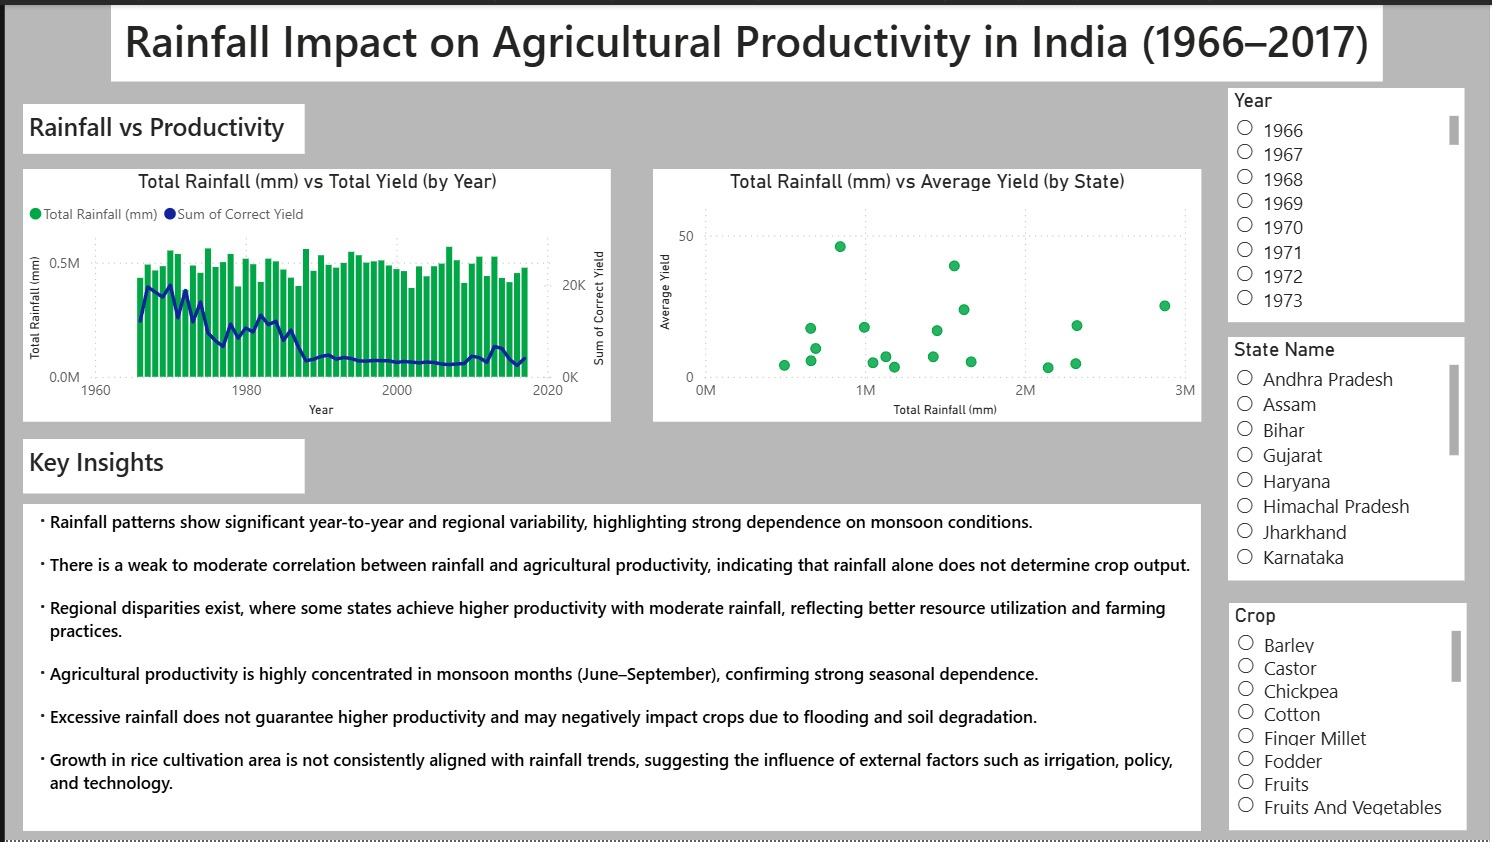

Layout of this report page (visuals, bound fields, positions):
{"tool":"powerbi","page":{"name":"Correlations and Key Insights","canvas":[1280,720],"ordinal":1},"visuals":[{"type":"textbox","box":[91.4,0,1097.1,66.1],"z":0},{"type":"textbox","box":[15.5,85.4,243.2,43.1],"z":1000},{"type":"listSlicer","fields":{"Values":["Dimension_Geography.State Name"]},"box":[1054.9,286.4,204.4,209.6],"z":2000},{"type":"listSlicer","fields":{"Values":["Fact_Agriculture.Year"]},"box":[1054.9,71.6,204.4,201.8],"z":3000},{"type":"listSlicer","fields":{"Values":["Fact_Agriculture.Crop"]},"box":[1055.3,515.5,205.2,196.5],"z":4000},{"type":"scatterChart","title":"Total Rainfall (mm) vs Average Yield (by State)","fields":{"Y":["Fact_Agriculture.Average Yield"],"Category":["Dimension_Geography.State Name"],"X":["Fact_Agriculture.Total Rainfall (mm)"]},"box":[558.9,141.5,472.7,218.2],"z":5000},{"type":"lineClusteredColumnComboChart","title":"Total Rainfall (mm) vs Total Yield (by Year)","fields":{"Category":["Fact_Agriculture.Year"],"Y":["Fact_Agriculture.Total Rainfall (mm)"],"Y2":["Sum(Fact_Agriculture.Correct Yield)"]},"box":[15.5,141.5,507.2,218.2],"z":6000},{"type":"textbox","box":[15.5,374.3,243.2,46.6],"z":7000},{"type":"textbox","box":[15.5,430.4,1016.1,282],"z":8000}]}

Visuals, with their boxes in screenshot pixels (x1, y1, x2, y2), scaled from the page's 1280x720 canvas onto the 1492x842 screenshot:
textbox: rect(107, 0, 1385, 77)
textbox: rect(18, 100, 302, 150)
listSlicer - Dimension_Geography.State Name: rect(1230, 335, 1468, 580)
listSlicer - Fact_Agriculture.Year: rect(1230, 84, 1468, 320)
listSlicer - Fact_Agriculture.Crop: rect(1230, 603, 1469, 833)
"Total Rainfall (mm) vs Average Yield (by State)" scatterChart: rect(651, 165, 1202, 421)
"Total Rainfall (mm) vs Total Yield (by Year)" lineClusteredColumnComboChart: rect(18, 165, 609, 421)
textbox: rect(18, 438, 302, 492)
textbox: rect(18, 503, 1202, 833)
